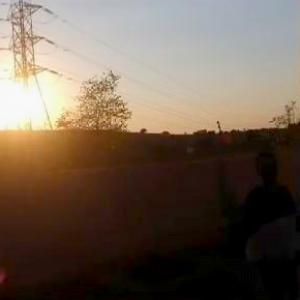follow: (235, 145, 299, 299)
